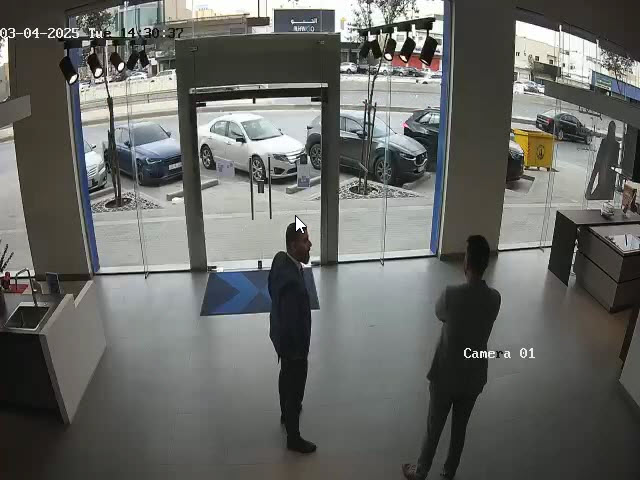male: (412, 234, 502, 480), (267, 220, 318, 454)
